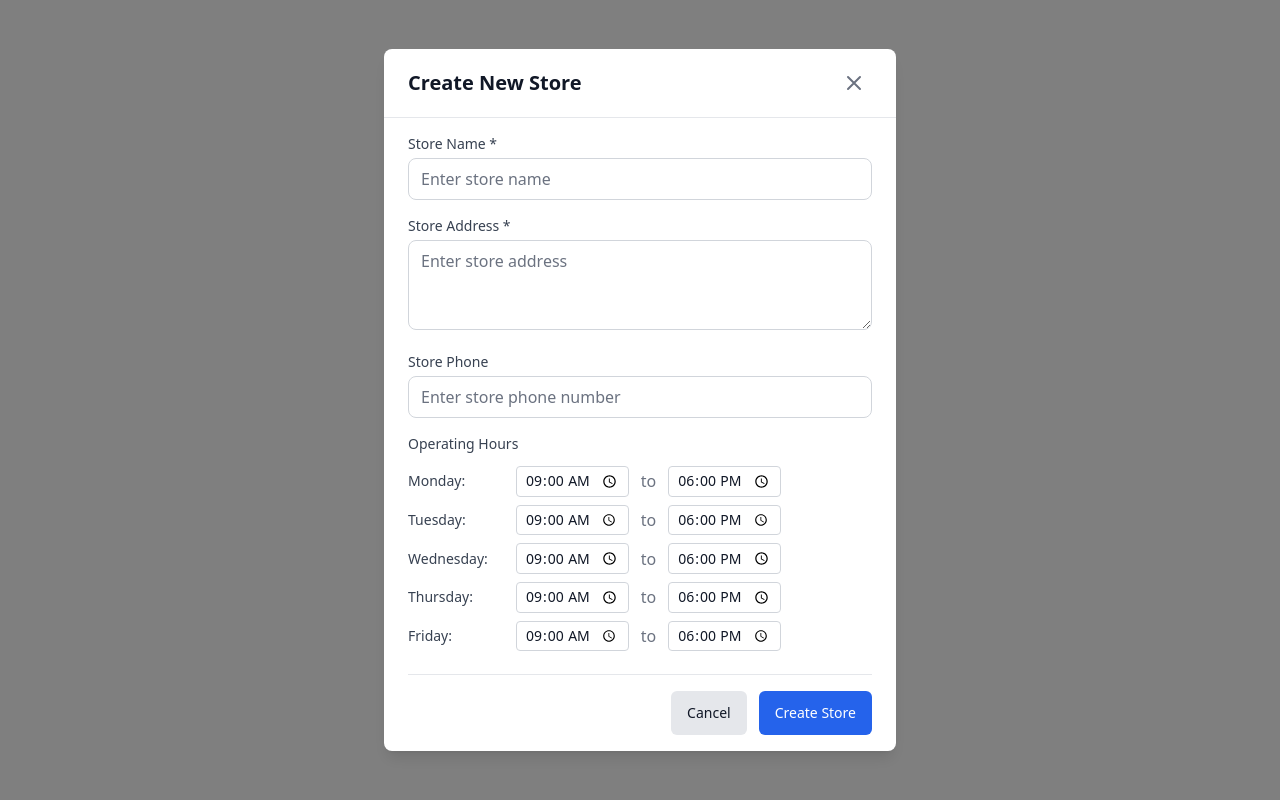
Test: StoreModal Component (Task 52) › Form Validation (Requirement 10.2) › should show error when store name is empty
Click the button "Create Store" at (815, 713), box 759,691 -> 872,735
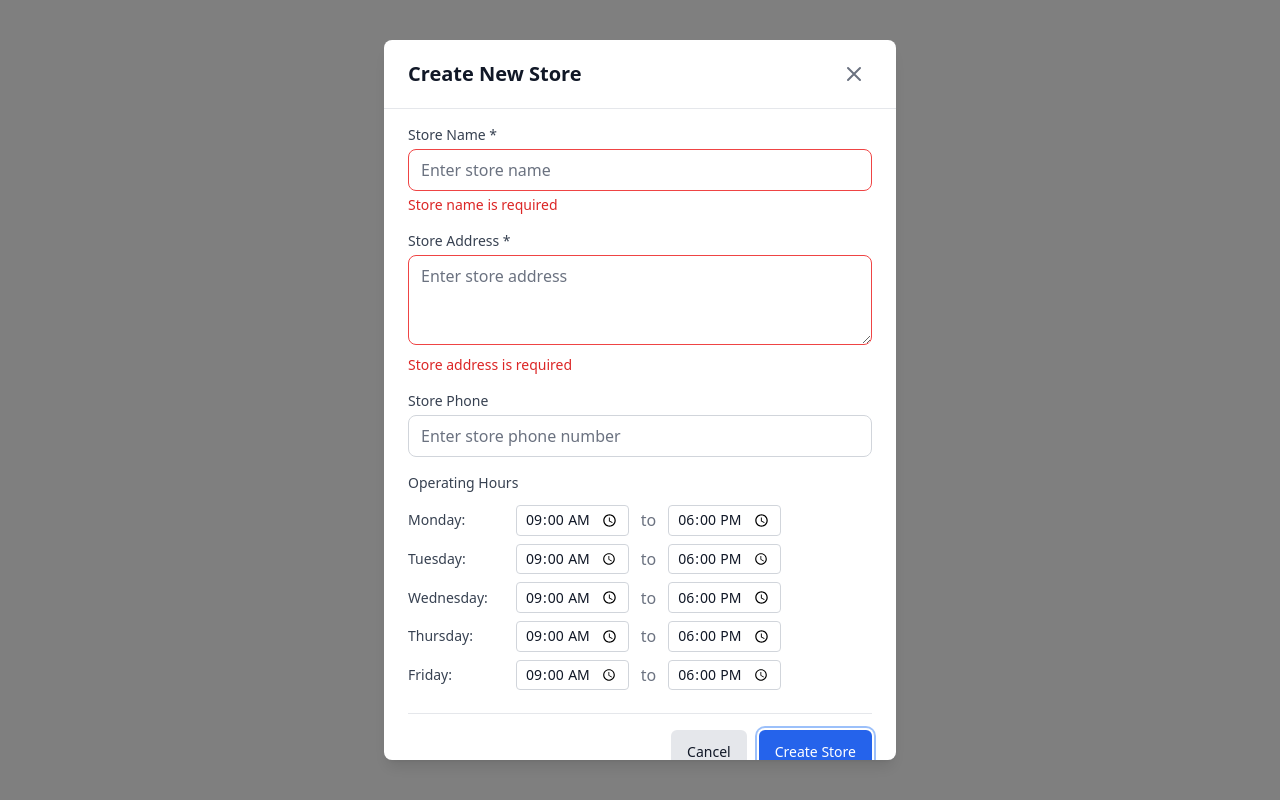
Now the text "Store name is required" is shown, box 408,195 -> 558,214
